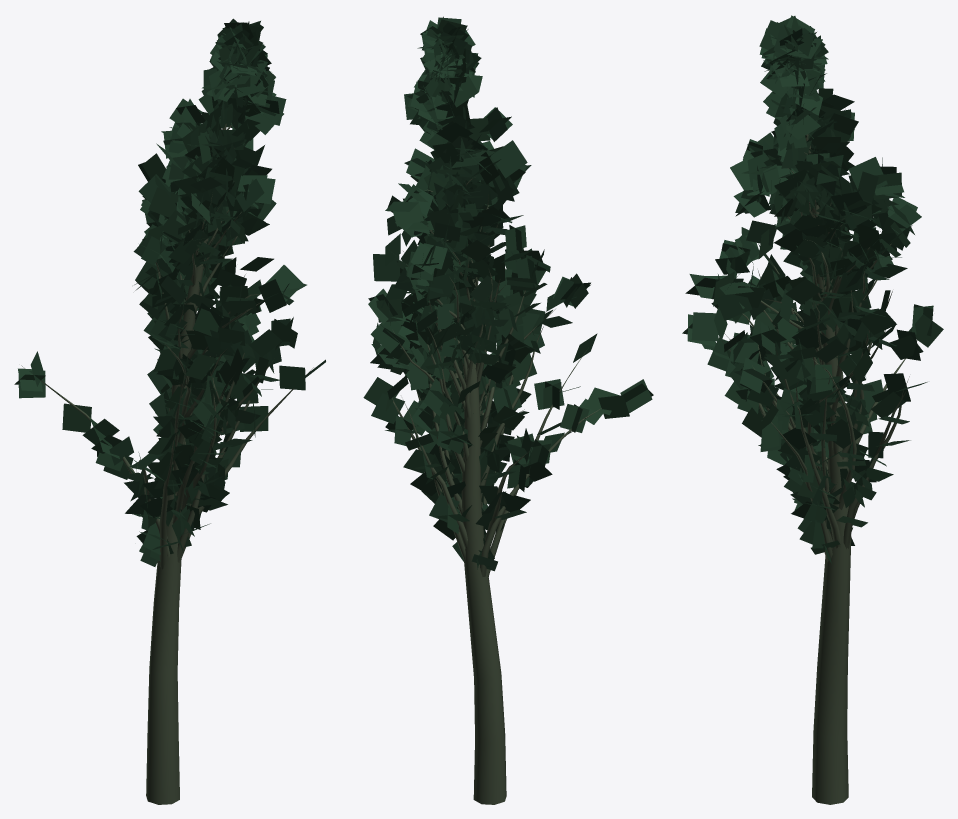
File: meadow-spruce-a.lod1.glb
The picture shows the model from 3 angles, left to right: view 1: azimuth 30°, elevation 25°; view 2: azimuth 150°, elevation 25°; view 3: azimuth 270°, elevation 25°; orthographic projection. The views are drawn at different scales.
Visible parts, largest first — view 1: leaves, bark; view 2: leaves, bark; view 3: leaves, bark.
Boxes of the visible parts, x1=… form: leaves: x1=14, y1=18, x2=325, y2=566; bark: x1=21, y1=123, x2=313, y2=804; leaves: x1=363, y1=16, x2=653, y2=571; bark: x1=387, y1=177, x2=601, y2=804; leaves: x1=682, y1=15, x2=943, y2=563; bark: x1=719, y1=134, x2=917, y2=804.
Size of the model in its own units: 16.95 by 51.2 by 14.92.
